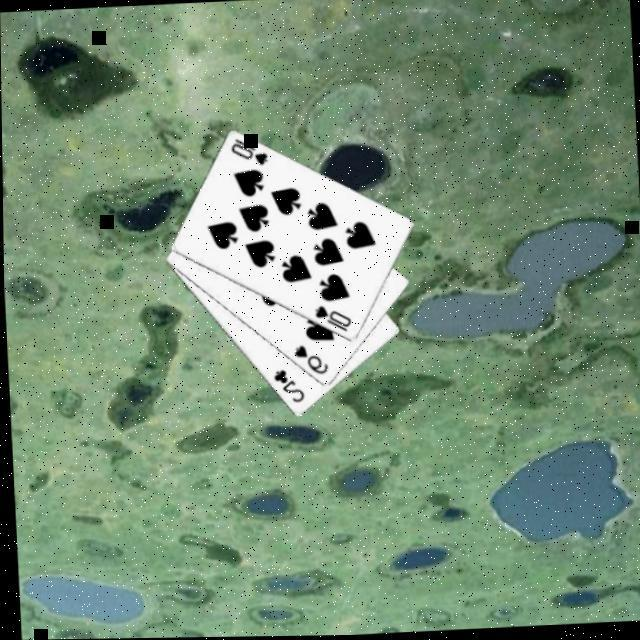10S: (225, 136, 268, 172), (308, 302, 351, 336)
2C: (267, 367, 304, 408)
6S: (288, 343, 327, 380)
